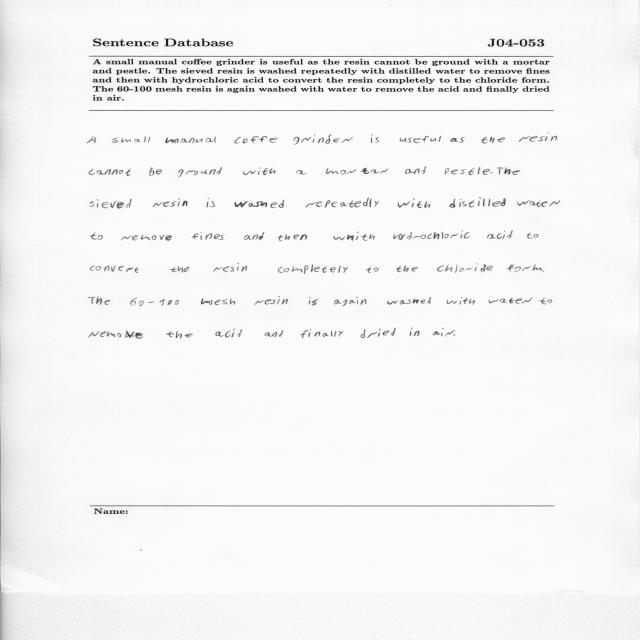word: (306, 198, 379, 208), (278, 264, 348, 274), (393, 231, 470, 240), (294, 134, 353, 145), (449, 197, 506, 208), (437, 263, 493, 273), (89, 330, 143, 339), (178, 167, 222, 177), (333, 231, 375, 241), (235, 200, 285, 208), (90, 265, 139, 273), (130, 298, 179, 306), (301, 329, 344, 338), (519, 132, 557, 142), (326, 168, 389, 174), (90, 199, 131, 208), (445, 167, 490, 175), (165, 137, 216, 144), (387, 297, 431, 305), (361, 328, 396, 338), (89, 168, 131, 176), (398, 199, 431, 209), (153, 198, 188, 207), (517, 200, 561, 207), (489, 297, 533, 304), (121, 235, 172, 241), (214, 263, 248, 272), (254, 296, 288, 305), (235, 136, 278, 143), (334, 297, 366, 306), (400, 136, 441, 143), (507, 264, 542, 272), (112, 136, 150, 143), (243, 168, 275, 176), (192, 232, 224, 240), (215, 329, 242, 338), (446, 297, 475, 305), (277, 234, 307, 241), (487, 231, 513, 239), (201, 299, 235, 305), (481, 136, 505, 144), (89, 296, 110, 305), (166, 331, 193, 338), (498, 167, 520, 175), (433, 328, 455, 336), (244, 232, 265, 240), (405, 167, 426, 174), (170, 266, 189, 273), (265, 330, 284, 337), (396, 266, 418, 272), (149, 167, 162, 176), (450, 137, 465, 143), (91, 233, 103, 240), (206, 198, 215, 207), (410, 328, 420, 336), (540, 298, 553, 304), (371, 134, 379, 143), (527, 233, 539, 239), (367, 267, 379, 273), (309, 297, 318, 305), (87, 137, 96, 144), (296, 170, 307, 175), (542, 270, 544, 272), (454, 334, 456, 336), (491, 172, 492, 173)
